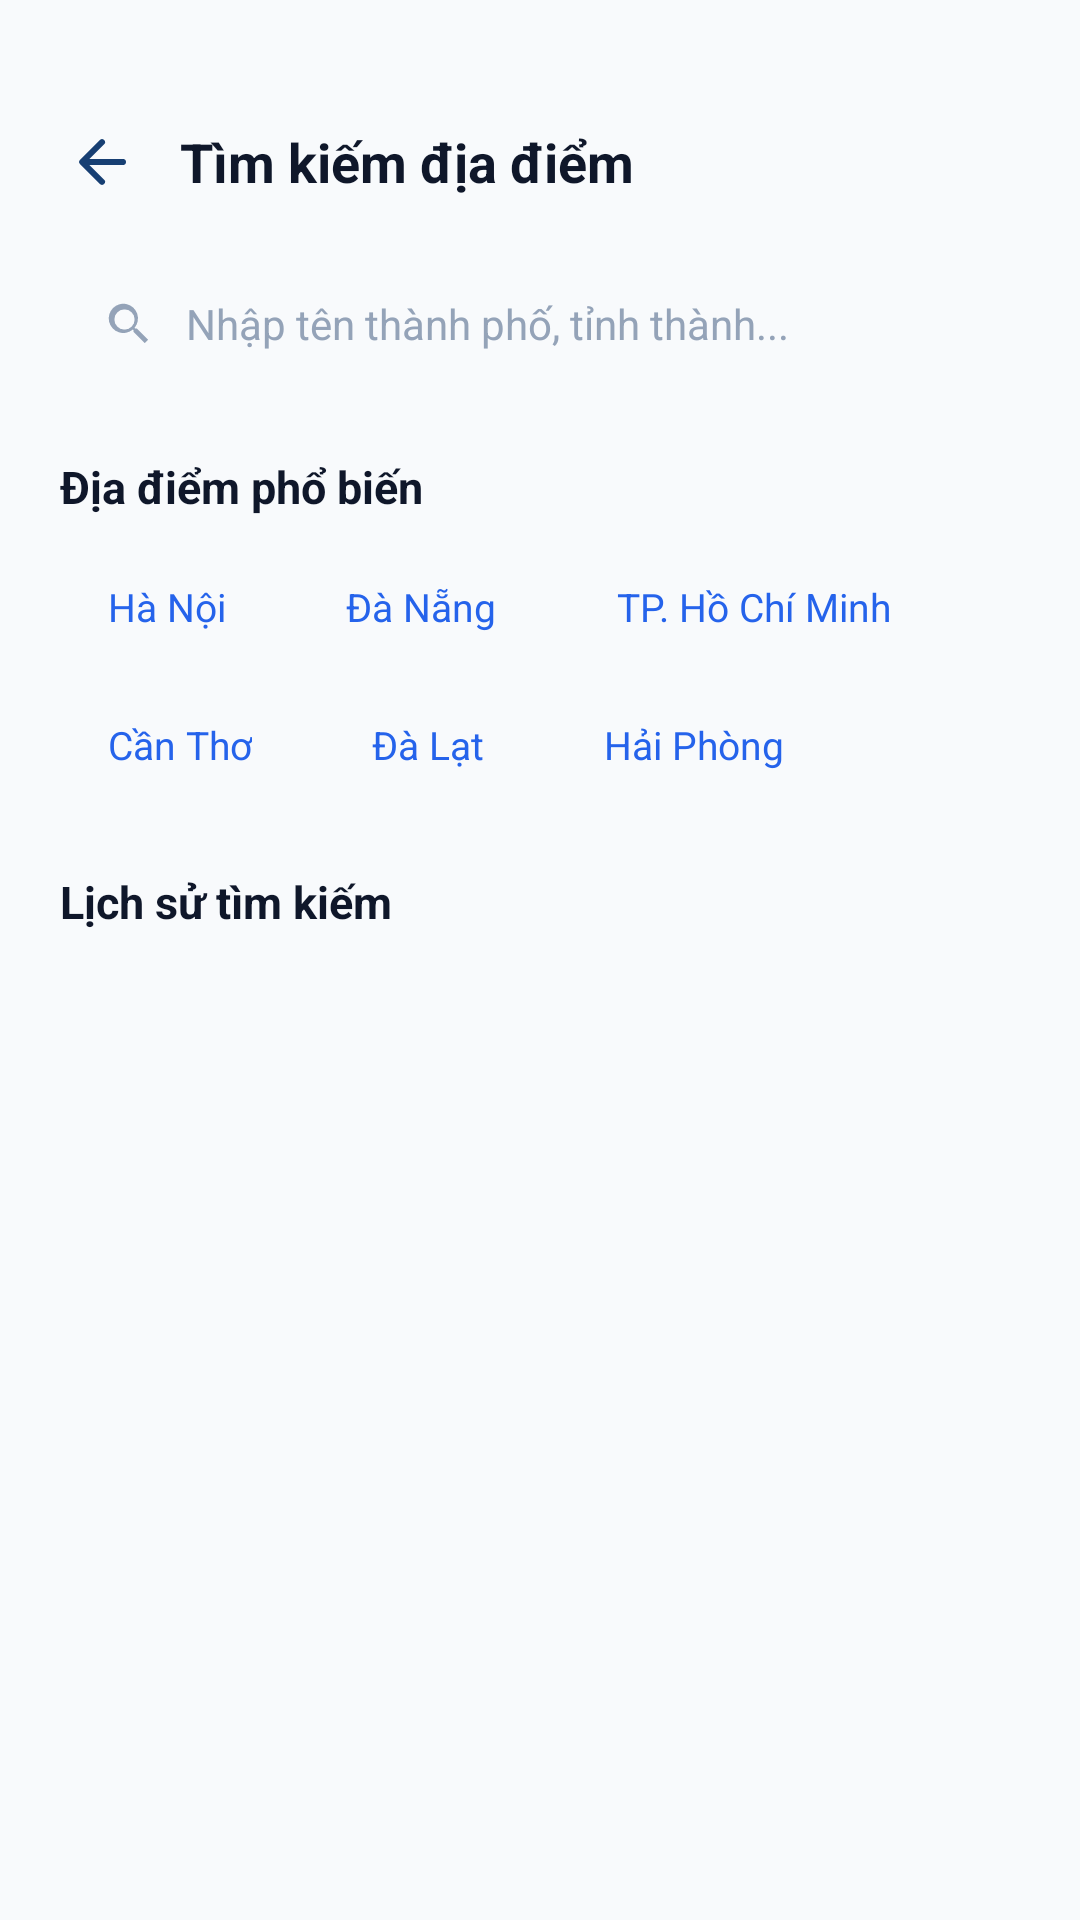

Named icons in this screenshot (1080w x 1920h) and their bounding boxes, (x1, y1, x2, y2):
Back: (79, 139, 126, 185)
Search icon: (108, 303, 148, 343)
